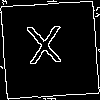X: (25, 25, 66, 74)
